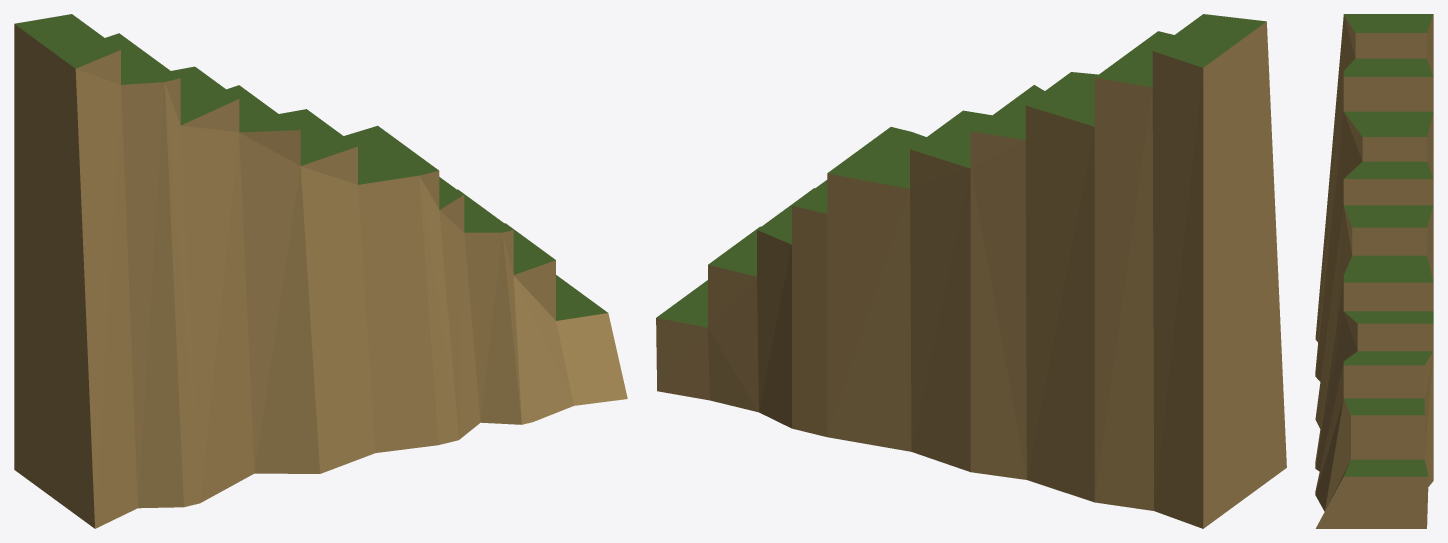
The model's file is Terrain_Tile_Grass_Dirt_Stairs_02.fbx.
3 views of the same model, side by side, from view 1: azimuth 30°, elevation 25°; view 2: azimuth 150°, elevation 25°; view 3: azimuth 270°, elevation 25° (orthographic). The views are drawn at different scales.
Parts seen in each view (by area): view 1: Terrain_Tile_Grass_Dirt_Stairs_02; view 2: Terrain_Tile_Grass_Dirt_Stairs_02; view 3: Terrain_Tile_Grass_Dirt_Stairs_02.
Boxes of the visible parts, bbox=[...] form: Terrain_Tile_Grass_Dirt_Stairs_02: bbox=[14, 14, 627, 528]; Terrain_Tile_Grass_Dirt_Stairs_02: bbox=[656, 14, 1286, 528]; Terrain_Tile_Grass_Dirt_Stairs_02: bbox=[1315, 14, 1433, 528].
Size of the model in its own units: 157 by 126 by 41.44.
